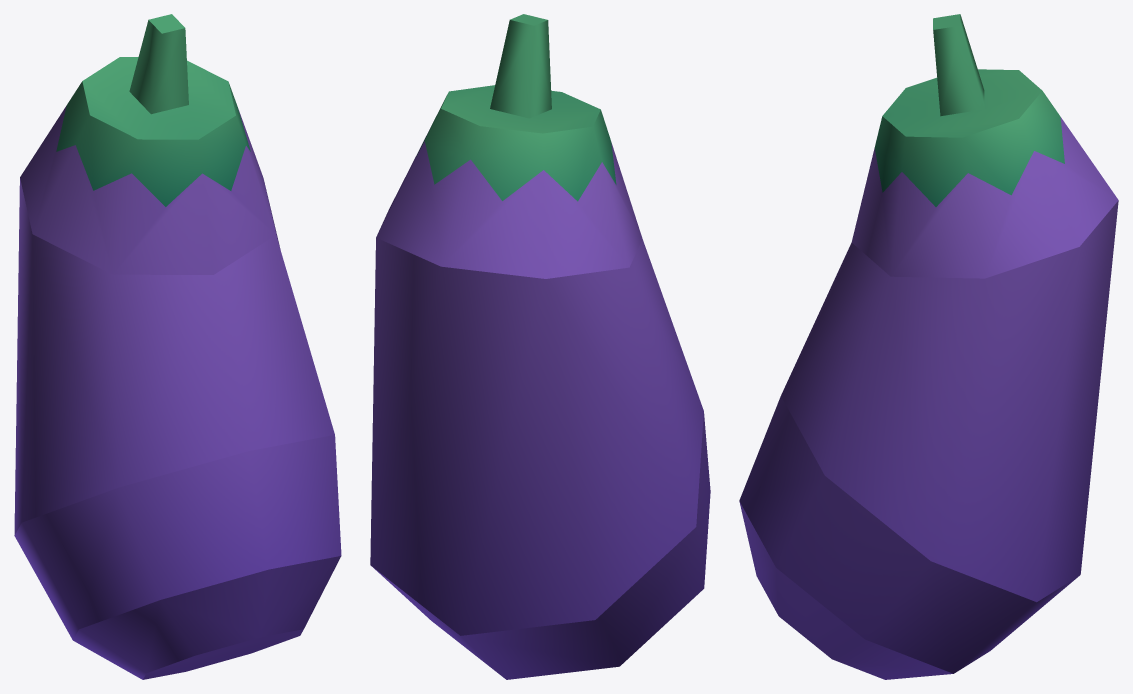
The model's file is eggplant.glb.
3 renders of one model, left to right at view 1: azimuth 30°, elevation 25°; view 2: azimuth 150°, elevation 25°; view 3: azimuth 270°, elevation 25°, orthographic. The views are drawn at different scales.
Parts seen in each view (by area): view 1: eggplant; view 2: eggplant; view 3: eggplant.
Boxes of the visible parts, x1=… form: eggplant: x1=14, y1=14, x2=341, y2=679; eggplant: x1=370, y1=14, x2=710, y2=679; eggplant: x1=739, y1=14, x2=1118, y2=679.
Bounding box in the file's own units: 0.204 × 0.4052 × 0.2156.
